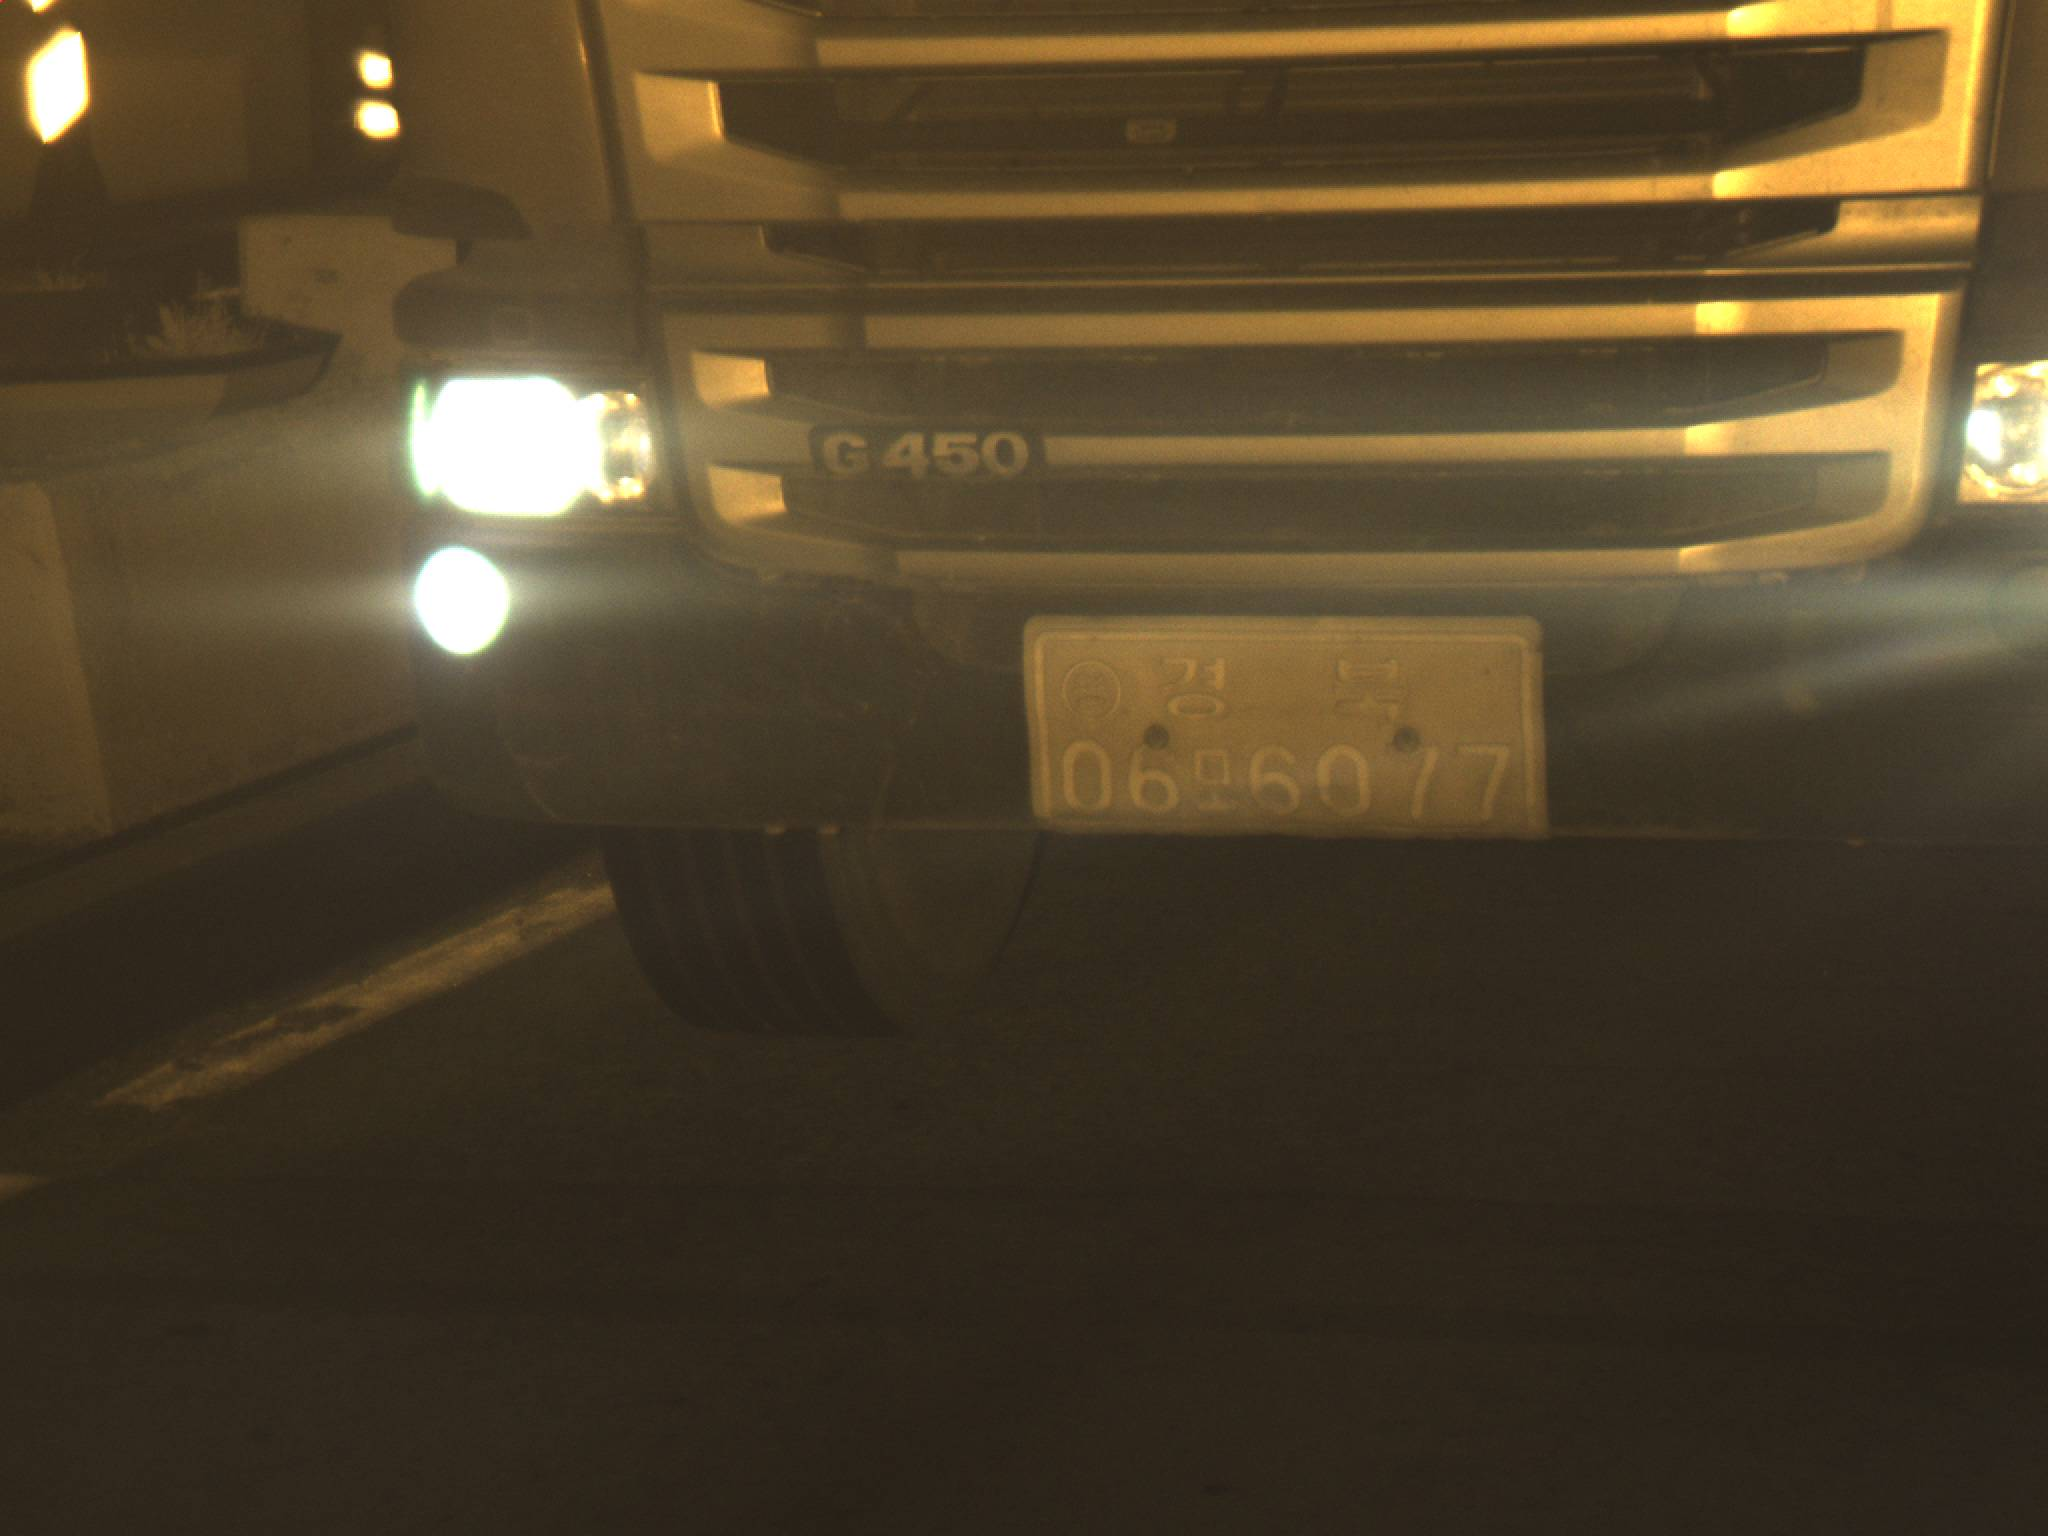car: (355, 1, 2044, 1049)
plate: (1027, 617, 1550, 840)
